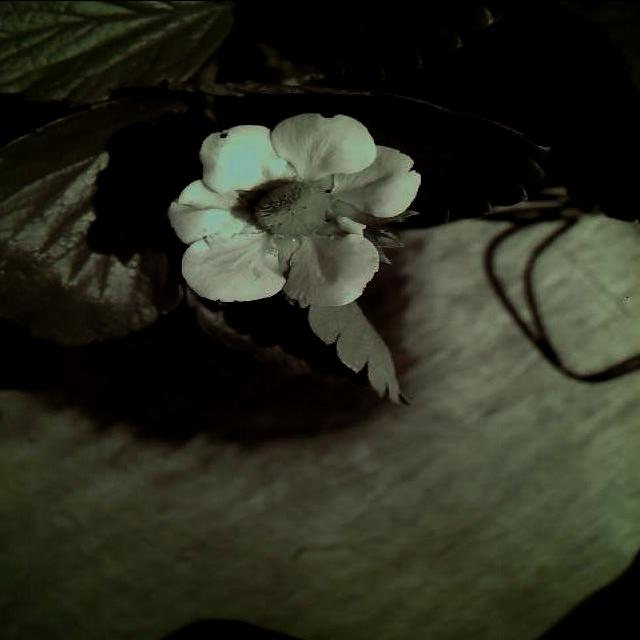flower: (160, 104, 422, 323)
